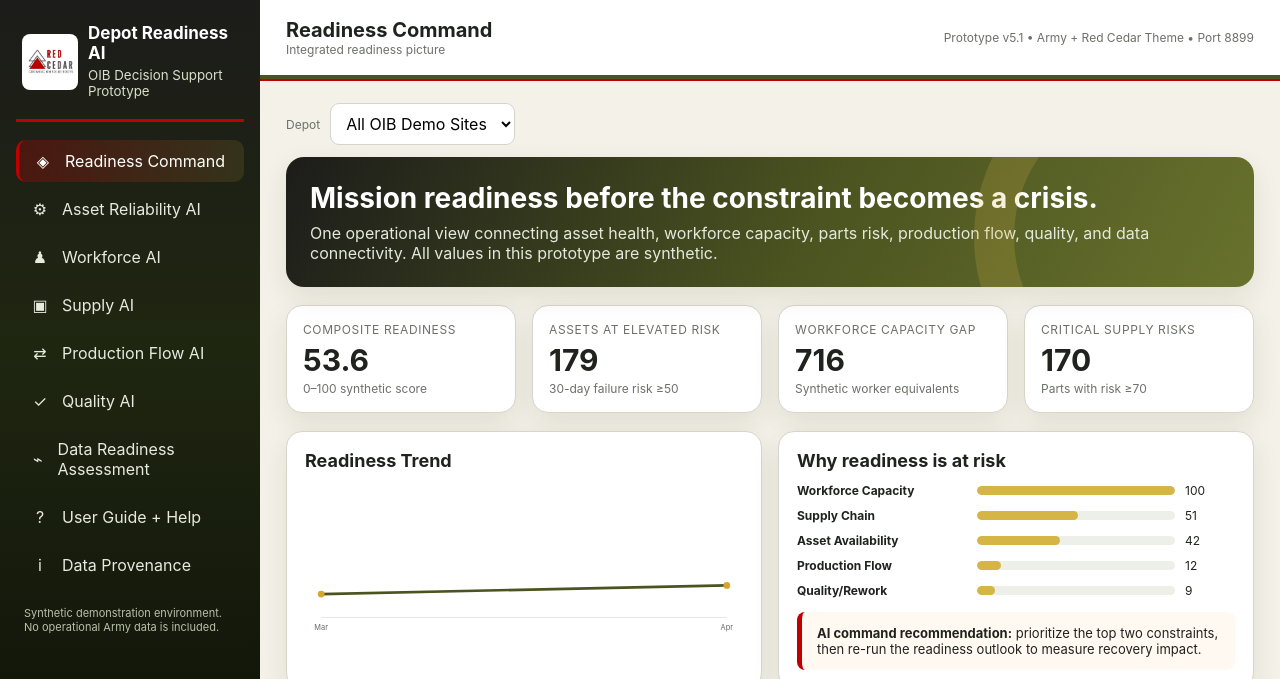
Test: Depot Readiness React UI › keeps the eight-step guide and opens the selected module
The width and height of the screenshot is (1280, 679).
Check: the heading "Mission readiness before the constraint becomes a crisis." is shown, box x1=310 y1=181 x2=1230 y2=215
Click the button "? User Guide + Help".
click(130, 517)  # box x1=16 y1=496 x2=244 y2=538
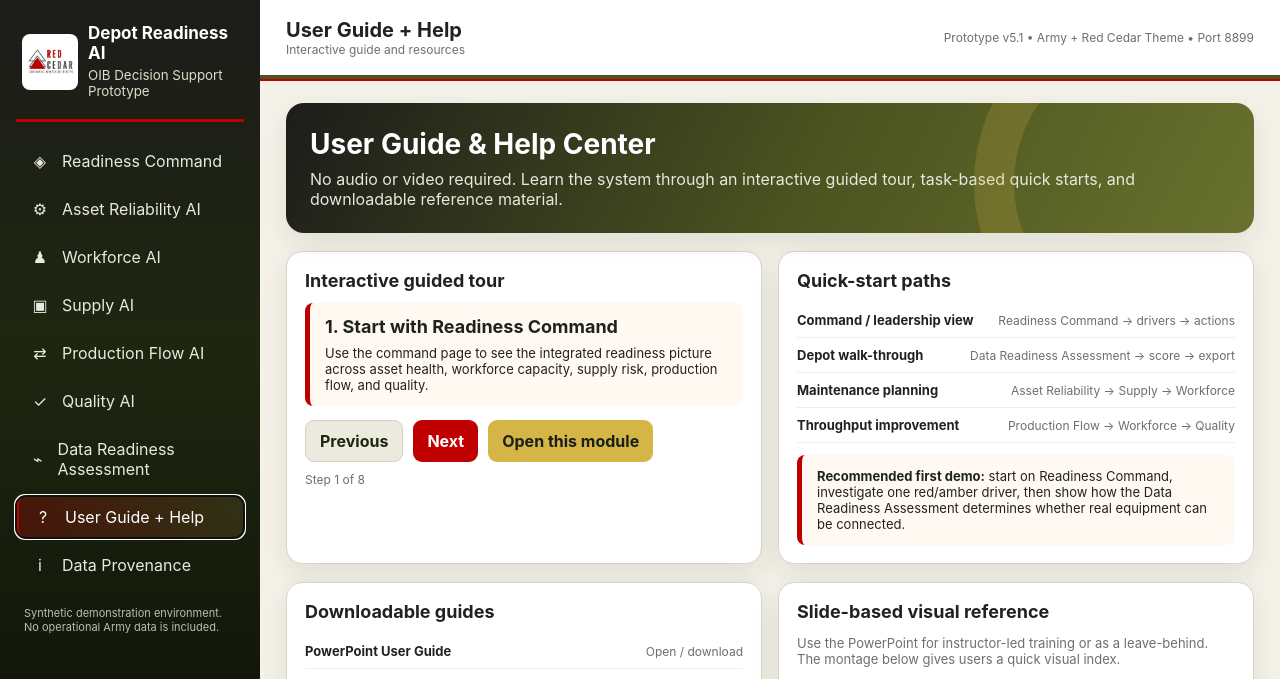
Check: the text "Step 1 of 8" is shown, box x1=305 y1=472 x2=365 y2=487
Click the button "Next".
click(446, 441)  # box x1=413 y1=420 x2=478 y2=462
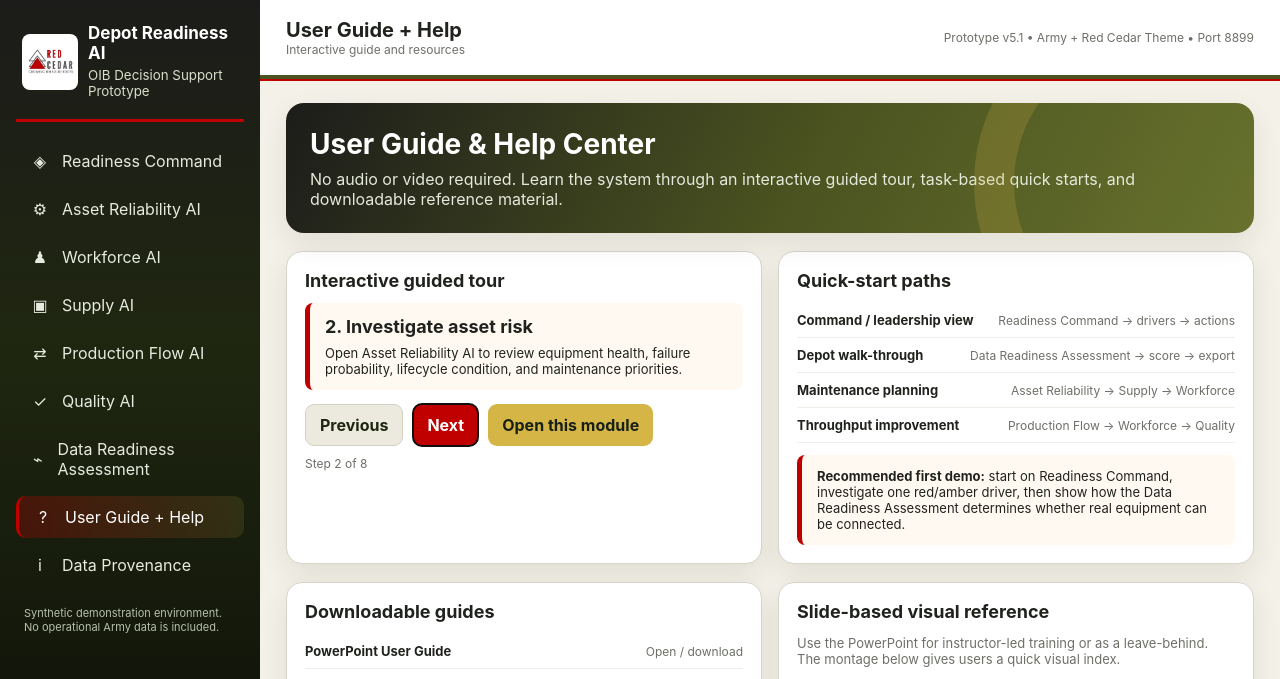
Check: the heading "2. Investigate asset risk" is shown, box x1=325 y1=316 x2=533 y2=337
Click the button "Open this module".
click(571, 425)  # box x1=488 y1=404 x2=653 y2=446
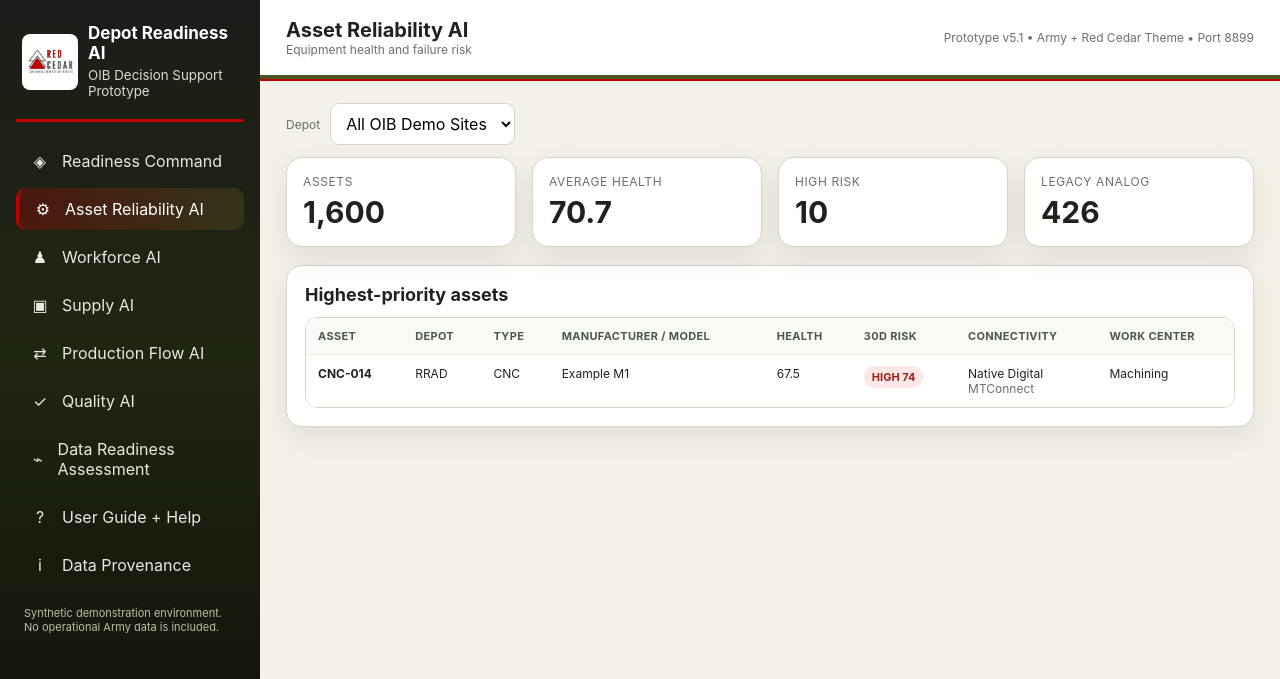
Check: the heading "Highest-priority assets" is shown, box x1=305 y1=284 x2=508 y2=305
